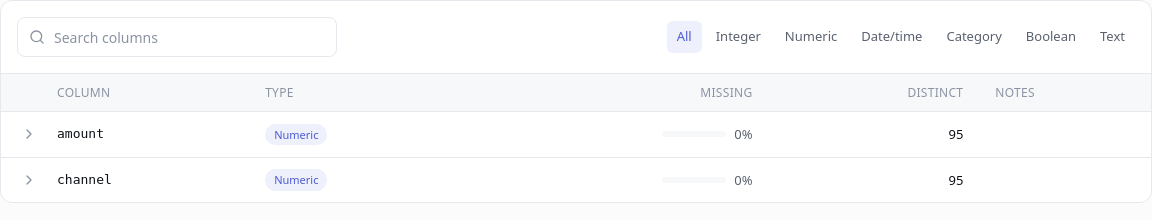
Test: DatasetColumnsPage › filters columns by search term
Expected: the text "amount" is shown, x1=41 y1=112 x2=249 y2=157
Type "chan" into the field labelled "Search columns" at (177, 37), box x1=17 y1=17 x2=337 y2=57
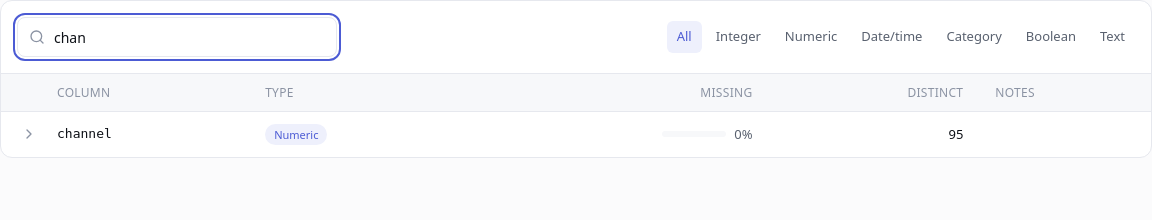
Expected: the text "channel" is shown, x1=41 y1=112 x2=249 y2=157
Expected: the text "amount" is gone
